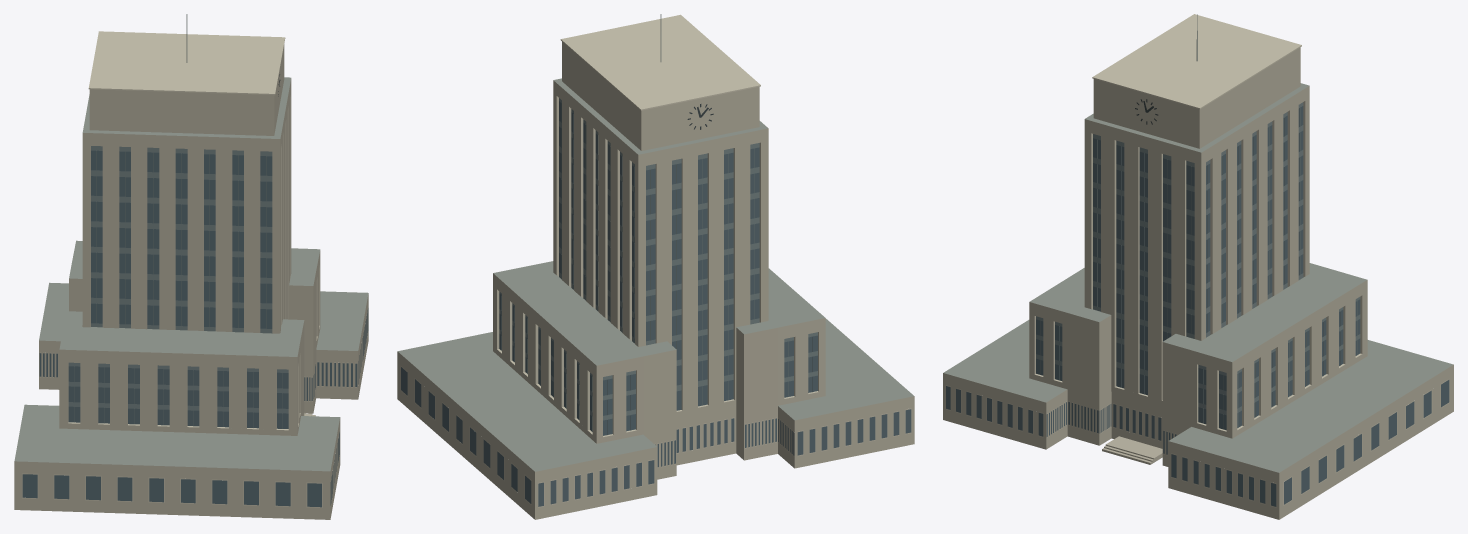
The model's file is houston-city-hall-near.glb.
3 renders of one model, left to right at view 1: azimuth 30°, elevation 25°; view 2: azimuth 150°, elevation 25°; view 3: azimuth 270°, elevation 25°, orthographic. The views are drawn at different scales.
Visible parts, largest first — view 1: houston-city-hall-0-stone, houston-city-hall-0-roof, houston-city-hall-0-glass, houston-city-hall-0-trim, houston-city-hall-0-spandrel, houston-city-hall-0-metal; view 2: houston-city-hall-0-stone, houston-city-hall-0-roof, houston-city-hall-0-glass, houston-city-hall-0-trim, houston-city-hall-0-spandrel, houston-city-hall-0-metal; view 3: houston-city-hall-0-stone, houston-city-hall-0-roof, houston-city-hall-0-glass, houston-city-hall-0-trim, houston-city-hall-0-spandrel, houston-city-hall-0-metal.
Part boxes in pixels (x1,y1,x2,y2): houston-city-hall-0-stone: [14, 45, 368, 519]; houston-city-hall-0-roof: [14, 77, 368, 471]; houston-city-hall-0-glass: [22, 150, 368, 507]; houston-city-hall-0-trim: [22, 31, 368, 507]; houston-city-hall-0-spandrel: [68, 146, 288, 413]; houston-city-hall-0-metal: [74, 14, 282, 428]; houston-city-hall-0-stone: [397, 42, 914, 519]; houston-city-hall-0-roof: [398, 78, 913, 471]; houston-city-hall-0-glass: [401, 101, 911, 506]; houston-city-hall-0-trim: [400, 14, 911, 507]; houston-city-hall-0-spandrel: [499, 98, 817, 420]; houston-city-hall-0-metal: [501, 14, 812, 434]; houston-city-hall-0-stone: [943, 47, 1453, 519]; houston-city-hall-0-roof: [943, 83, 1453, 472]; houston-city-hall-0-glass: [946, 106, 1449, 506]; houston-city-hall-0-trim: [945, 14, 1449, 507]; houston-city-hall-0-spandrel: [1036, 102, 1360, 415]; houston-city-hall-0-metal: [1040, 14, 1357, 429].
Bounding box in the file's own units: 75.53 × 68 × 78.68.
